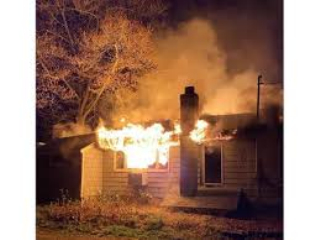fire: (89, 115, 222, 178)
